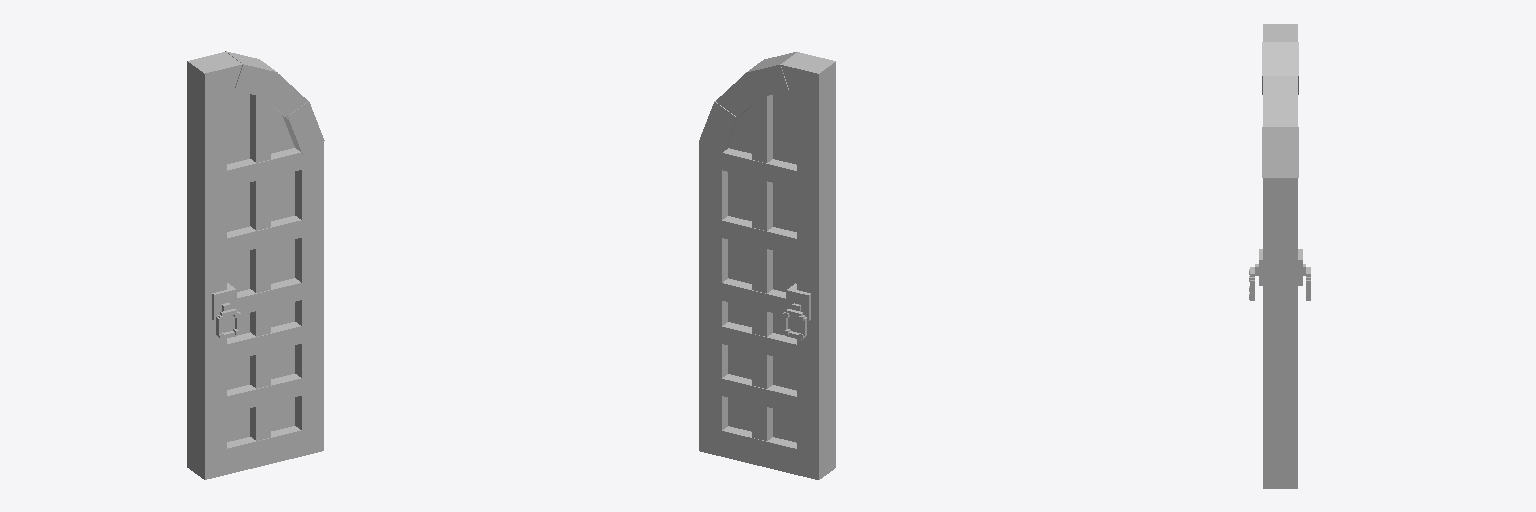
File: large_gate_open_mirror.obj
3 views of the same model, side by side, from view 1: azimuth 30°, elevation 25°; view 2: azimuth 150°, elevation 25°; view 3: azimuth 270°, elevation 25° (orthographic).
Parts seen in each view (by area): view 1: Cube.001; view 2: Cube.001; view 3: Cube.001.
Boxes of the visible parts, box(x1,y1,x2,y2) form: Cube.001: box(187, 51, 324, 479); Cube.001: box(699, 52, 835, 479); Cube.001: box(1249, 24, 1310, 488).
Size of the model in its own units: 1.5 by 4.88 by 0.6844.